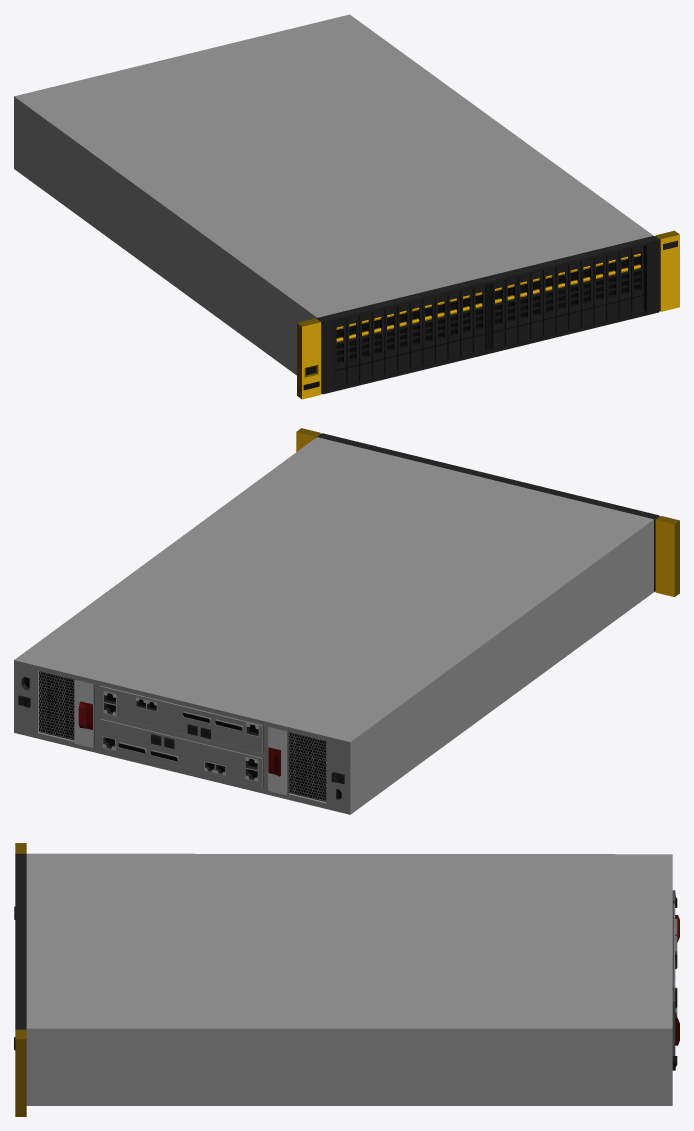
The model's file is HPE_3PAR_8450.fbx.
3 views of the same model, one above another, from view 1: azimuth 30°, elevation 25°; view 2: azimuth 150°, elevation 25°; view 3: azimuth 270°, elevation 25° (orthographic). The views are drawn at different scales.
Visible parts, largest first — view 1: HPE_3PAR_8450; view 2: HPE_3PAR_8450; view 3: HPE_3PAR_8450.
Boxes of the visible parts, <box> form: HPE_3PAR_8450: <box>14,14,679,399</box>; HPE_3PAR_8450: <box>14,428,679,814</box>; HPE_3PAR_8450: <box>14,843,679,1116</box>.
Size of the model in its own units: 481 by 88.85 by 689.
13 materials, 1 textured.
